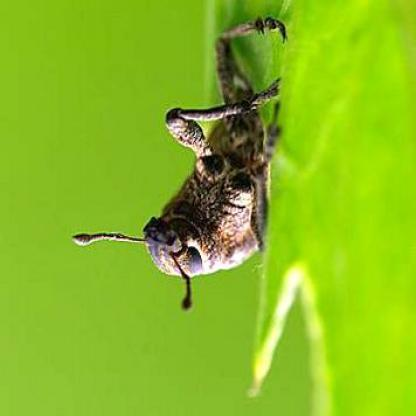rice-bug: (126, 12, 296, 292)
